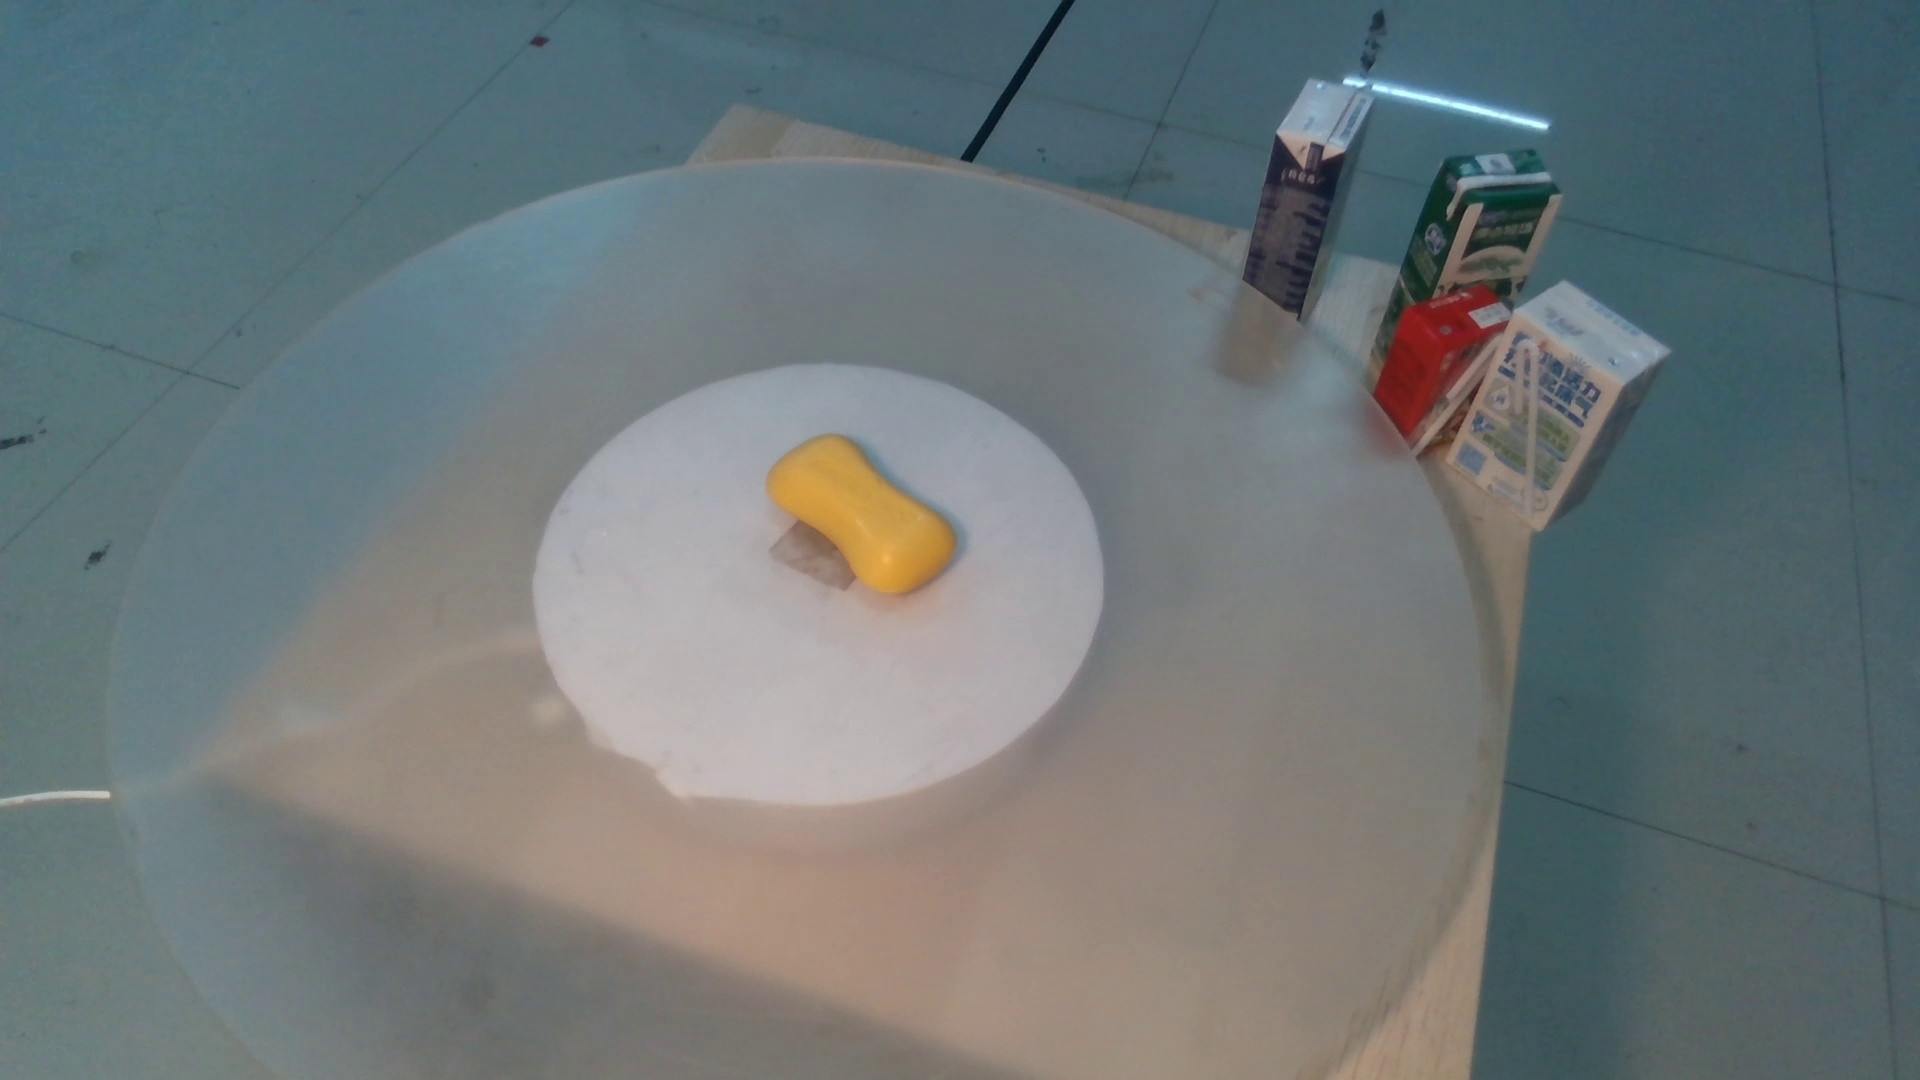CA003_1: (742, 407, 978, 615)
